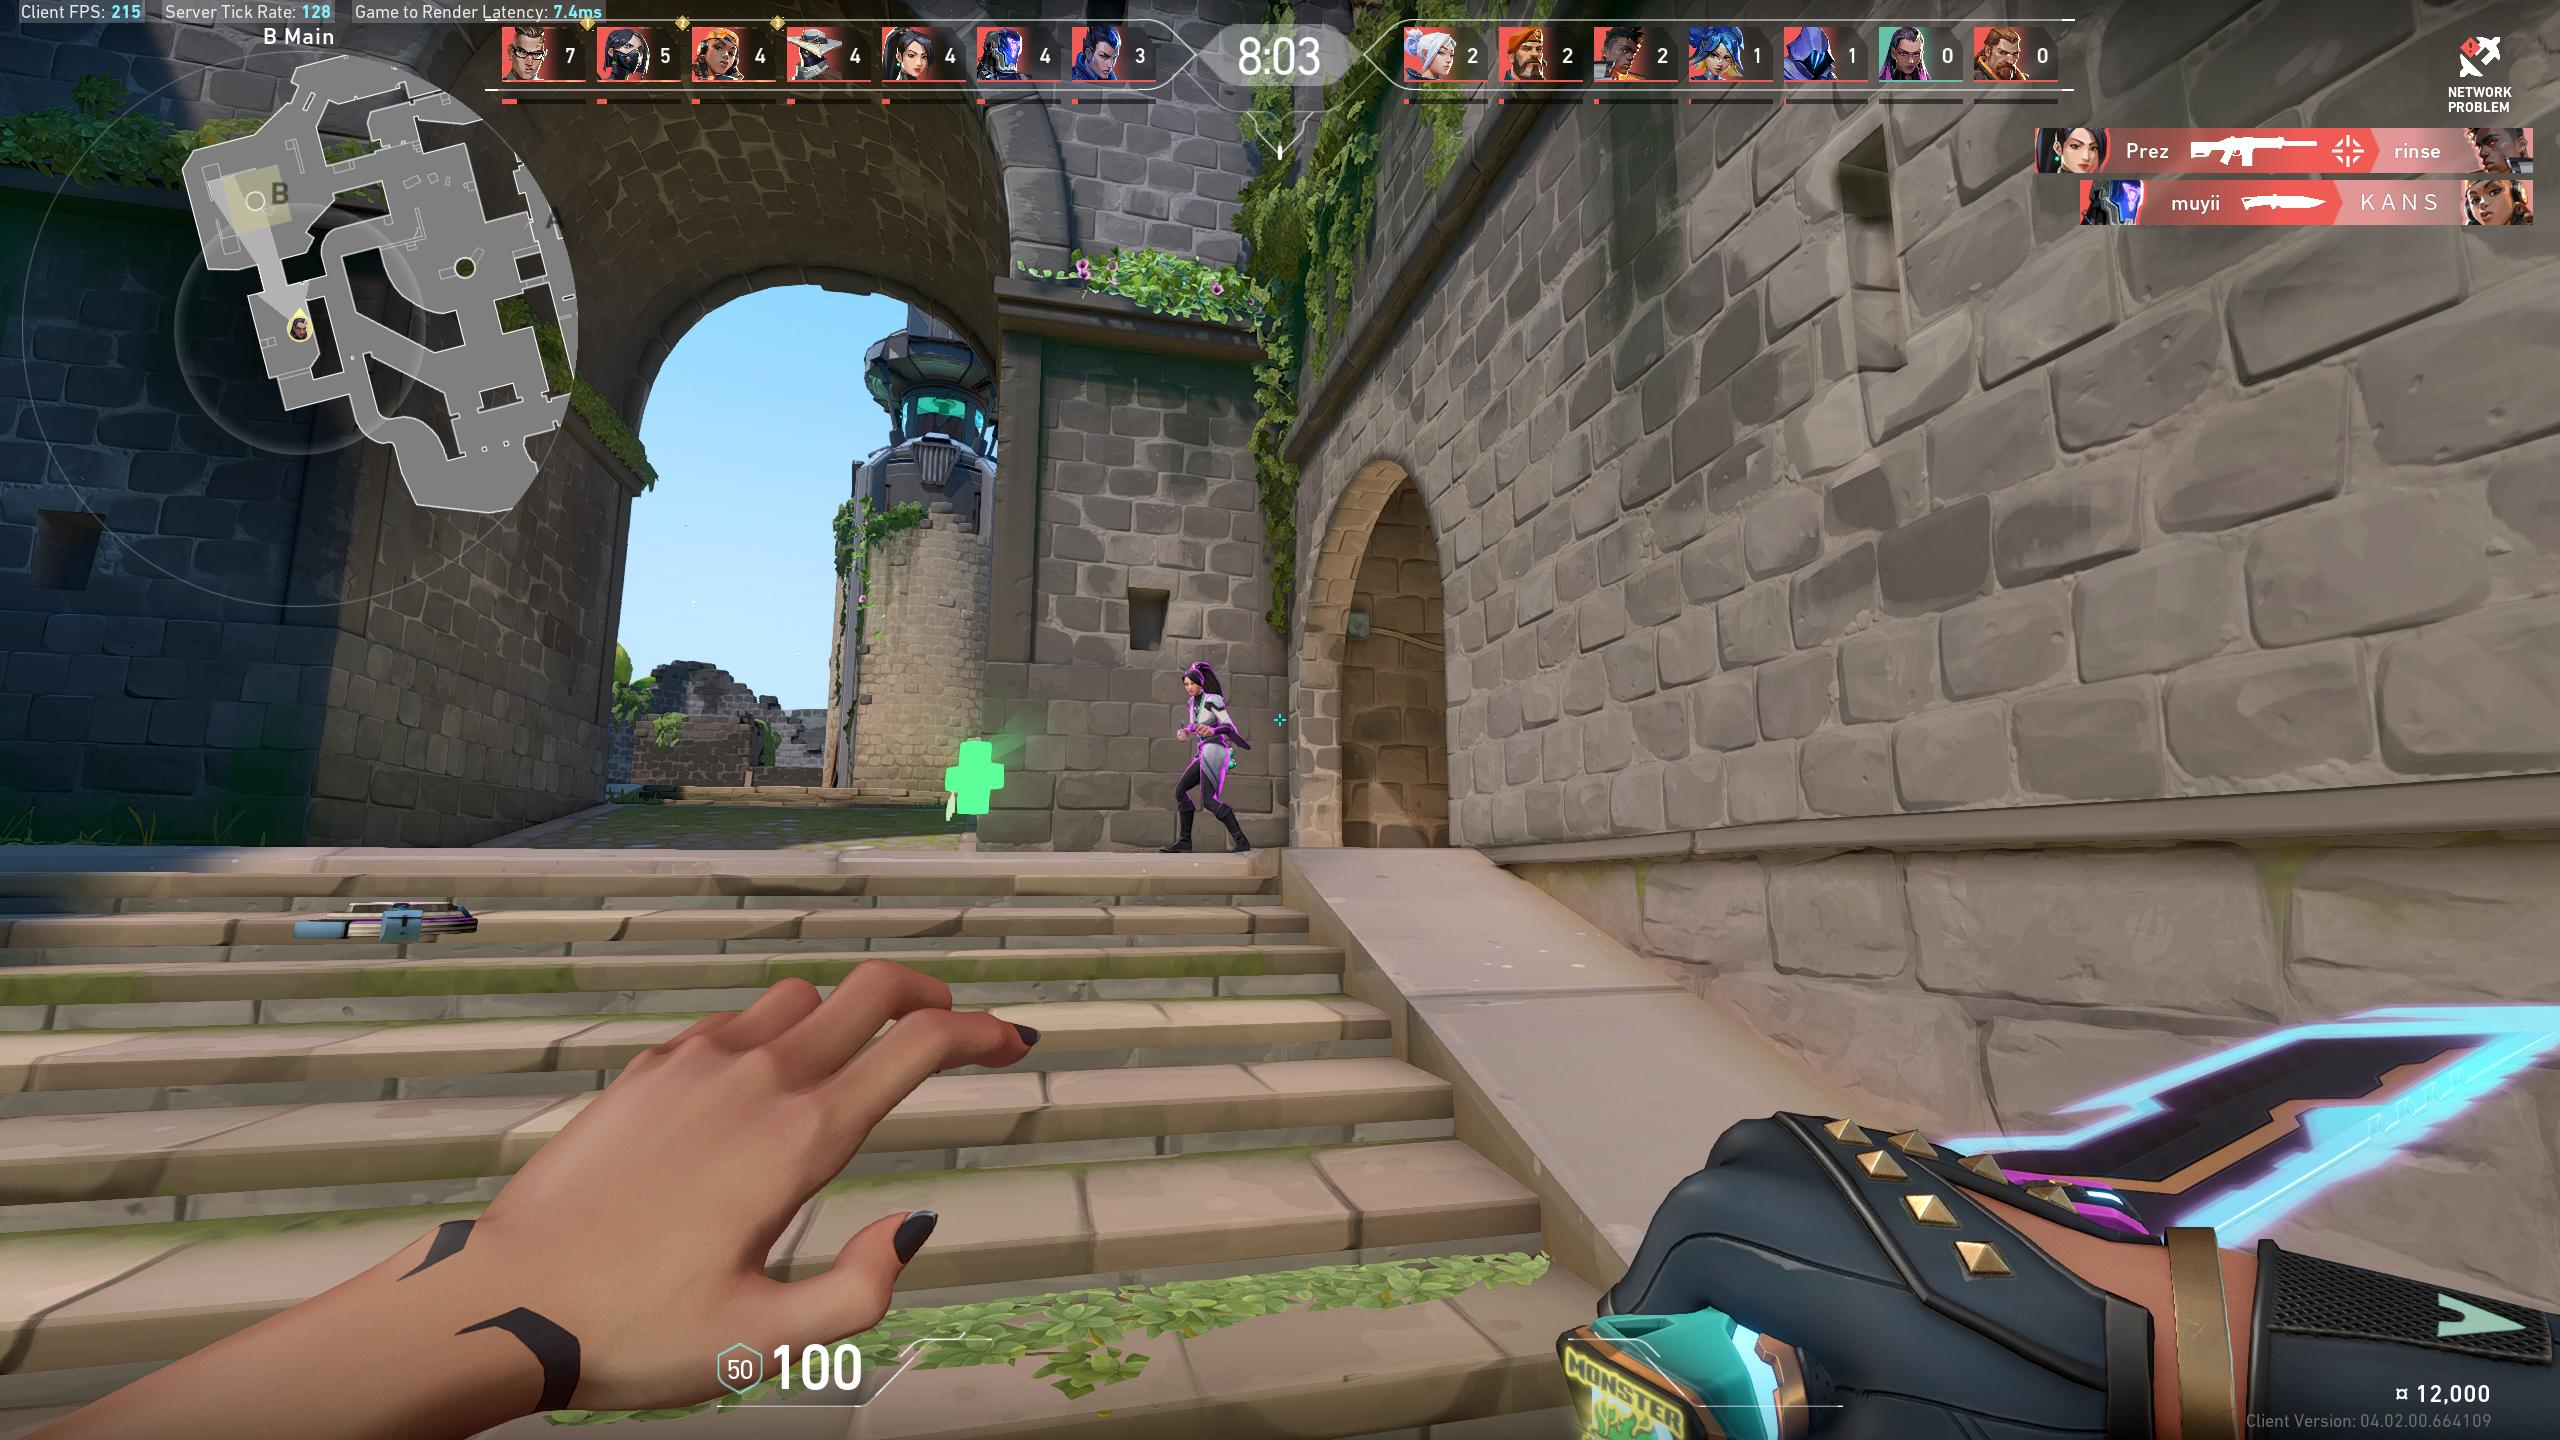enemyBody: (1201, 698, 1224, 754)
enemyHead: (1187, 677, 1203, 693)
